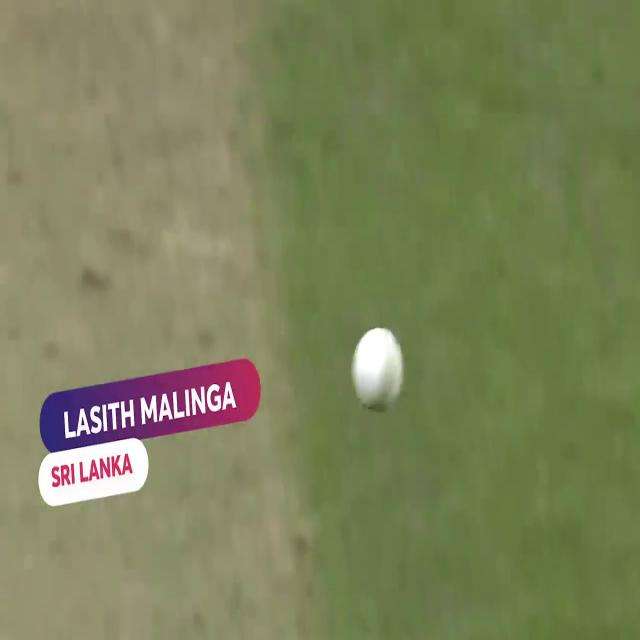ball: (346, 313, 404, 421)
